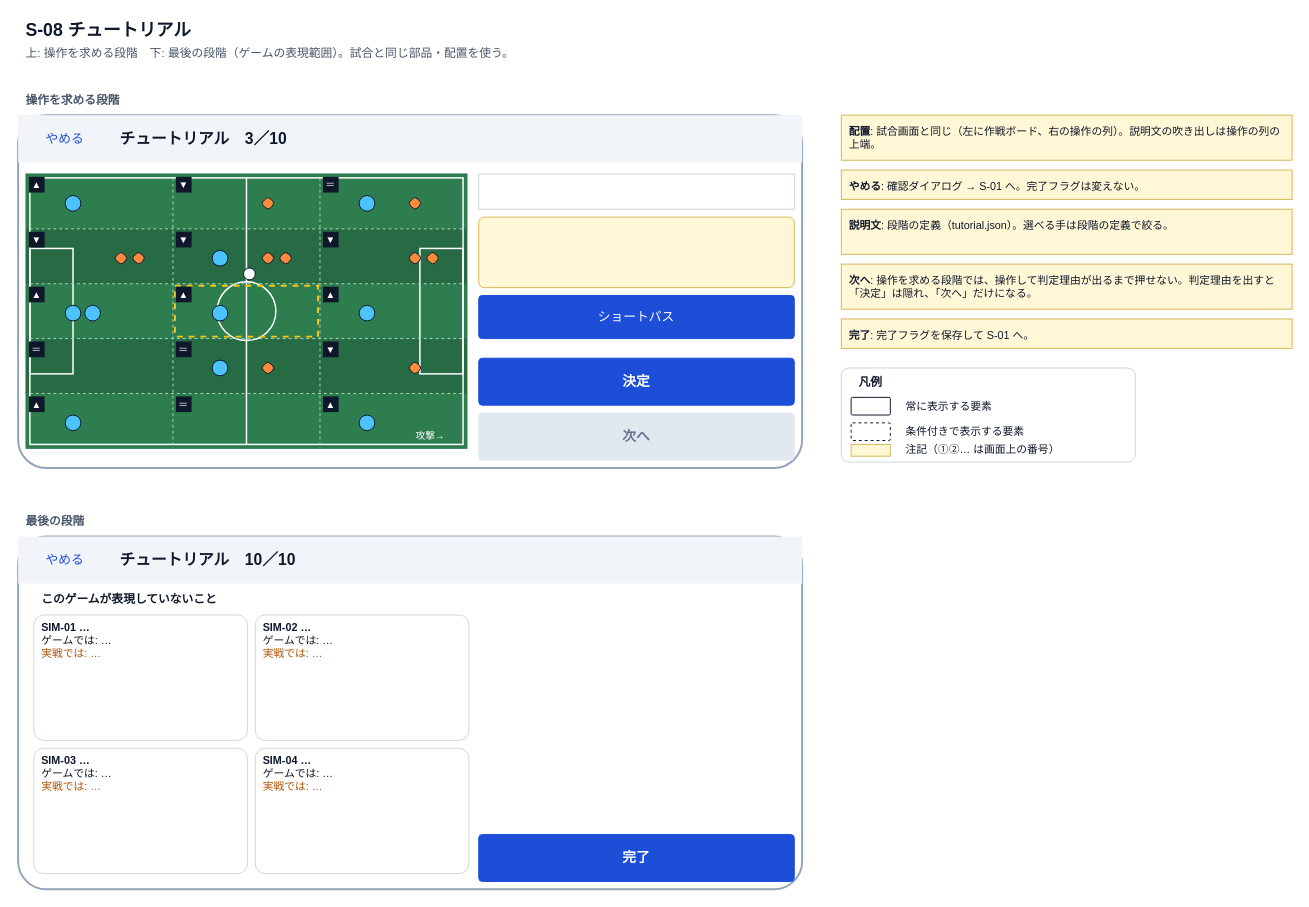
This 1309x907 diagram has some shape labels left out. The shapes that lost their labels are listed below. From the top down, each one's centre as x and y in pixels, then its label:
(636,191): ● 自分 4-3-3 ゾーン・カウンター ◆ CPU 4-4-2 ゾーン・保持
(636,252): ボールの周りの人数を比べよう。中盤（敵陣）・中央は 1対0。ここへパスを出すと前進できる。
